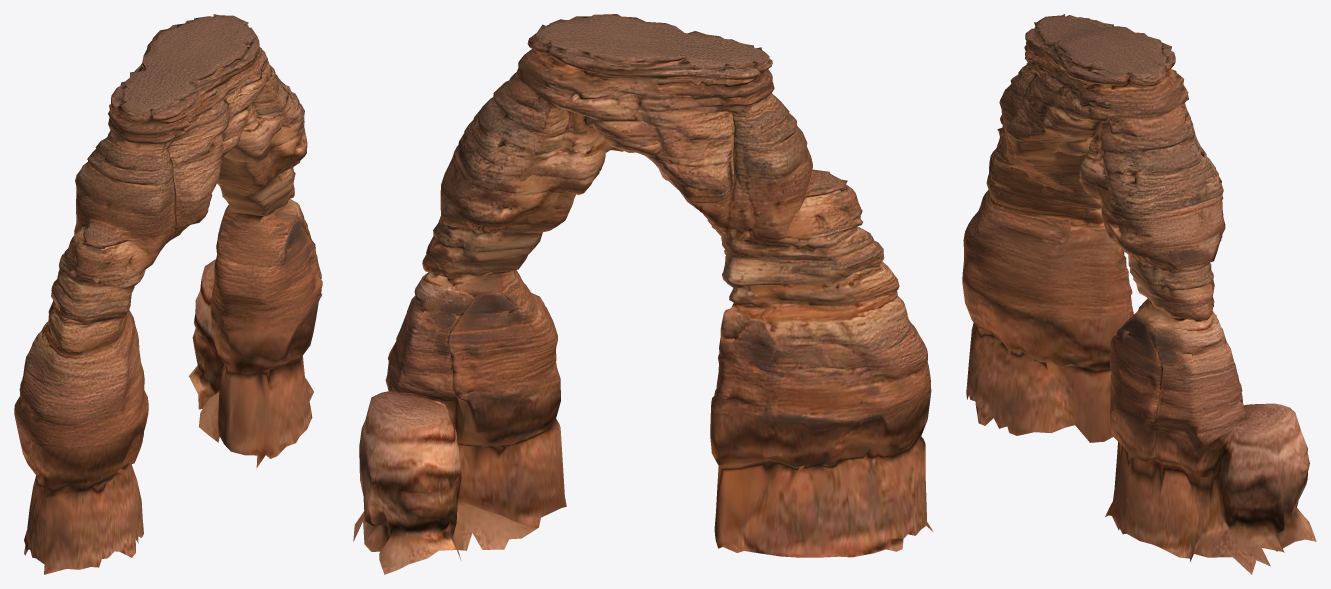
Rendered from arch.glb.
3 renders of one model, left to right at view 1: azimuth 30°, elevation 25°; view 2: azimuth 150°, elevation 25°; view 3: azimuth 270°, elevation 25°, orthographic. The views are drawn at different scales.
Visible parts, largest first — view 1: tripo_node_52b3762b-c8bd-401c-aecf-4cb986f7ebf2; view 2: tripo_node_52b3762b-c8bd-401c-aecf-4cb986f7ebf2; view 3: tripo_node_52b3762b-c8bd-401c-aecf-4cb986f7ebf2.
Boxes of the visible parts, left/top/right/bottom form: tripo_node_52b3762b-c8bd-401c-aecf-4cb986f7ebf2: left=14, top=14, right=322, bottom=574; tripo_node_52b3762b-c8bd-401c-aecf-4cb986f7ebf2: left=353, top=14, right=933, bottom=574; tripo_node_52b3762b-c8bd-401c-aecf-4cb986f7ebf2: left=962, top=14, right=1316, bottom=574.
Size of the model in its own units: 1.02 by 1.1 by 0.7898.
1 material, 1 textured.
